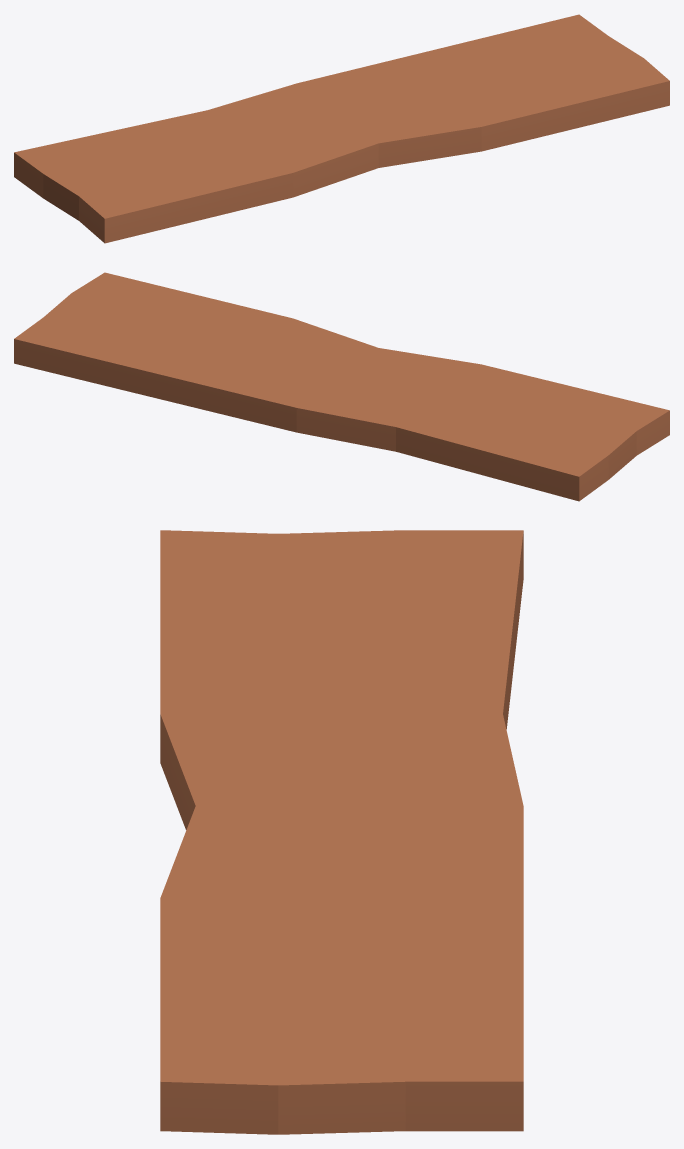
File: board-2.glb
3 renders of one model, top to bottom at view 1: azimuth 30°, elevation 25°; view 2: azimuth 150°, elevation 25°; view 3: azimuth 270°, elevation 25°, orthographic. The views are drawn at different scales.
Visible parts, largest first — view 1: board 2; view 2: board 2; view 3: board 2.
Boxes of the visible parts, left/top/right/bottom form: board 2: left=14, top=14, right=669, bottom=243; board 2: left=14, top=272, right=669, bottom=501; board 2: left=160, top=530, right=523, bottom=1134.
Bounding box in the file's own units: 2.82 × 0.117 × 0.7801.
1 material, 1 textured.
